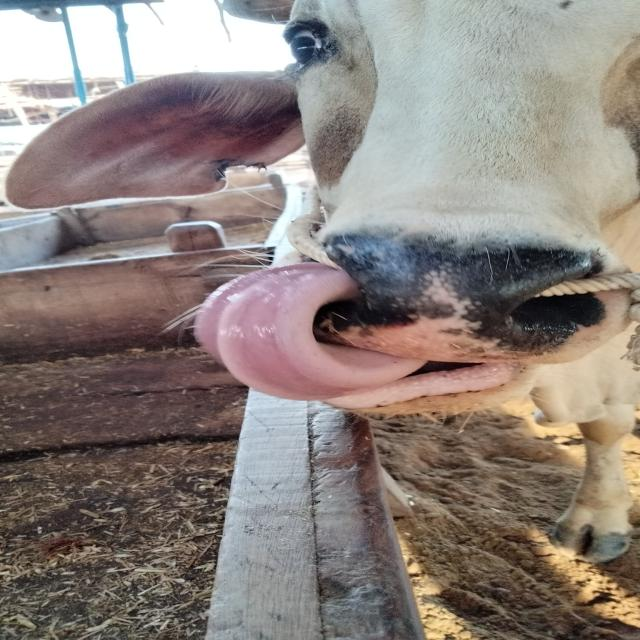muzzles: (271, 213, 631, 375)
